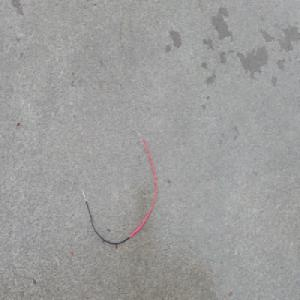Wire: (81, 127, 158, 245)
